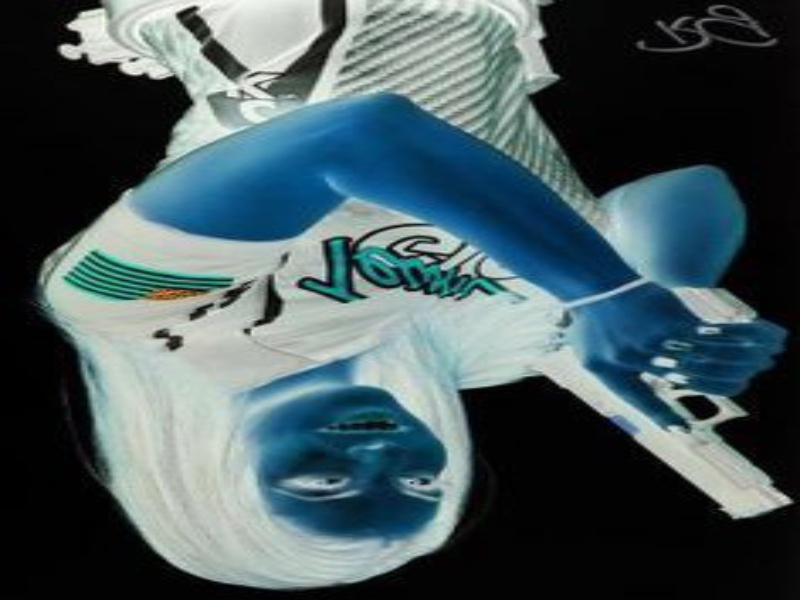knife: (1, 344, 297, 597), (493, 1, 762, 148)
